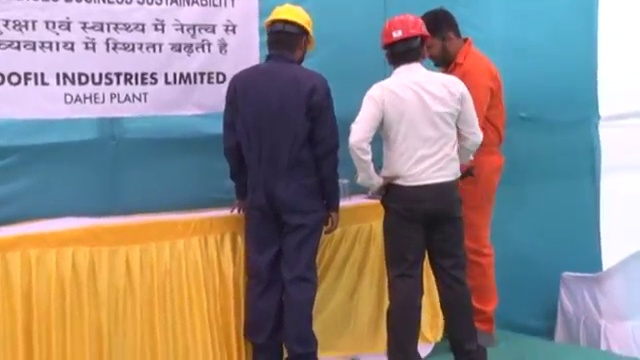helmet: (263, 2, 316, 48), (378, 14, 430, 50)
helmet_off: (424, 7, 471, 68)
helmet_on: (261, 2, 316, 70), (377, 13, 431, 71)
person: (348, 11, 483, 360), (224, 2, 339, 360), (420, 5, 507, 348)
